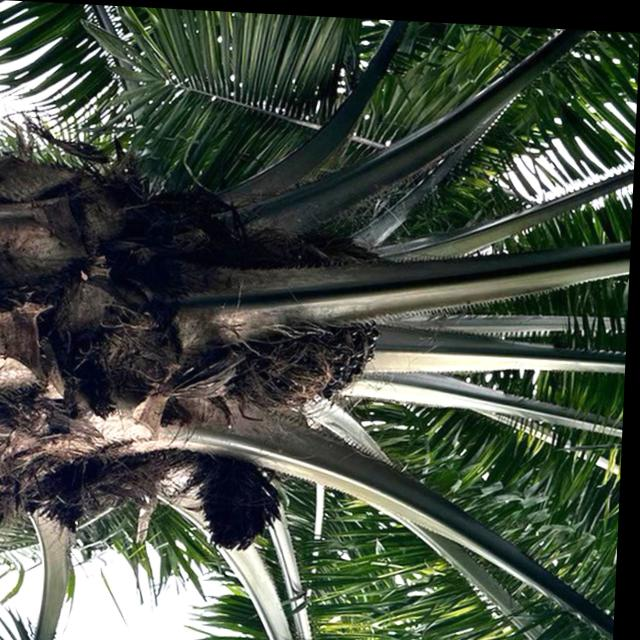almost: (223, 298, 386, 418)
